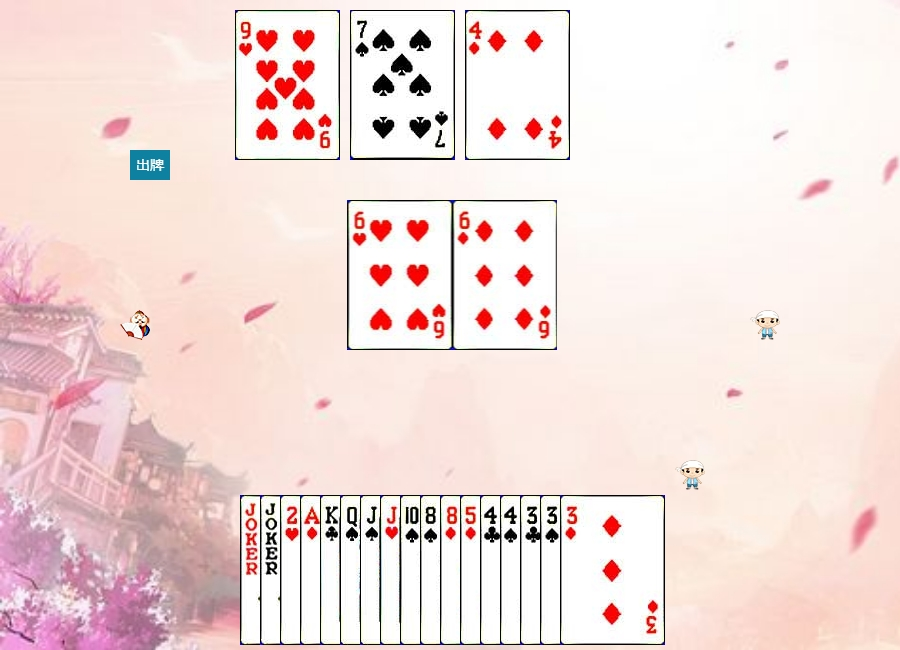10~4: (400, 495, 505, 645)
11~3: (380, 495, 485, 645)
11~4: (360, 495, 465, 645)
12~4: (340, 495, 445, 645)
13~2: (320, 495, 425, 645)
14~1: (300, 495, 405, 645)
15~3: (280, 495, 385, 645)
17~3: (260, 495, 365, 645)
18~4: (240, 495, 345, 645)
3~1: (560, 495, 665, 645)
3~2: (520, 495, 625, 645)
3~4: (540, 495, 645, 645)
4~1: (465, 10, 570, 160)
4~2: (480, 495, 585, 645)
4~4: (500, 495, 605, 645)
5~1: (460, 495, 565, 645)
6~1: (453, 200, 558, 350)
6~3: (348, 200, 453, 350)
7~4: (350, 10, 455, 160)
8~1: (440, 495, 545, 645)
8~4: (420, 495, 525, 645)
9~3: (235, 10, 340, 160)
